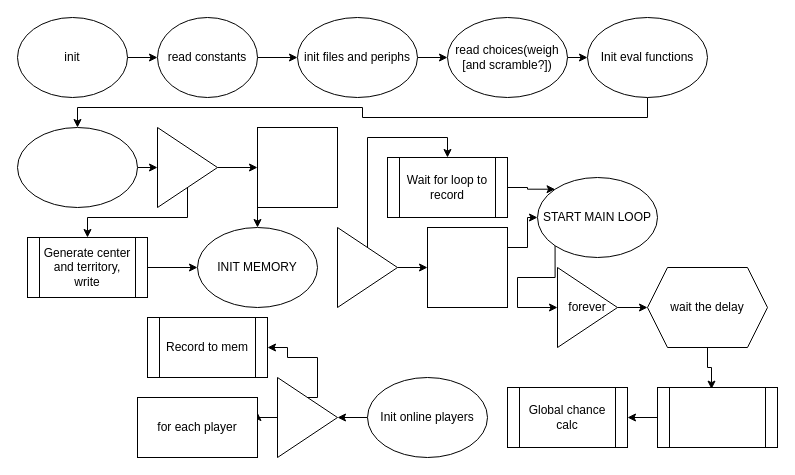
Image size: 795x475. Some labels were removed from this diagram. Here are the shapes that lost their labels. From the top down, the centre of each, then its label:
At (77,167): "INIT CENTER AND TERRITORY".
At (187,167): "If already written".
At (297,167): "read and copy center and territory".
At (367,267): "If exists".
At (467,267): "Read from file and init".
At (307,417): "If new players".
At (717,417): "Calculate global diff(moon)[increasing sin wave?]".
